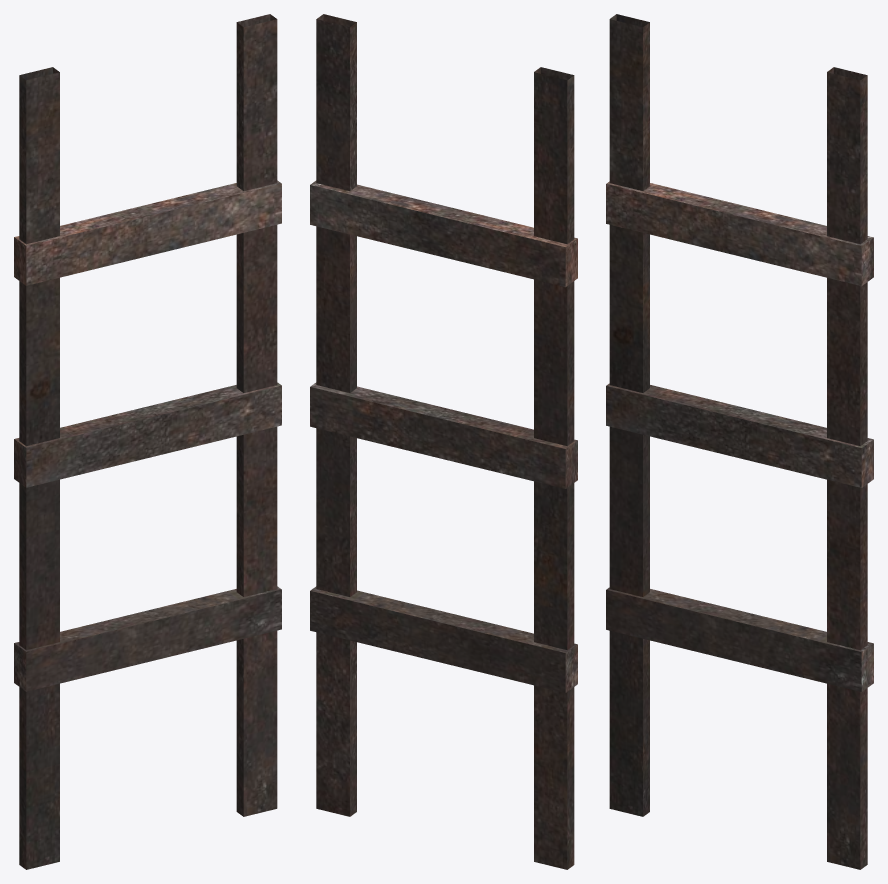
Rendered from stair low poly (1).fbx.
The picture shows the model from 3 angles, left to right: view 1: azimuth 30°, elevation 25°; view 2: azimuth 150°, elevation 25°; view 3: azimuth 330°, elevation 25°; orthographic projection.
Visible parts, largest first — view 1: Mesh1; view 2: Mesh1; view 3: Mesh1.
Boxes of the visible parts, x1,y1,x2,y2 form: Mesh1: (14,14,281,869); Mesh1: (310,14,577,869); Mesh1: (606,14,873,869).
Bounding box in the file's own units: 24.06 × 71.01 × 1.97.
